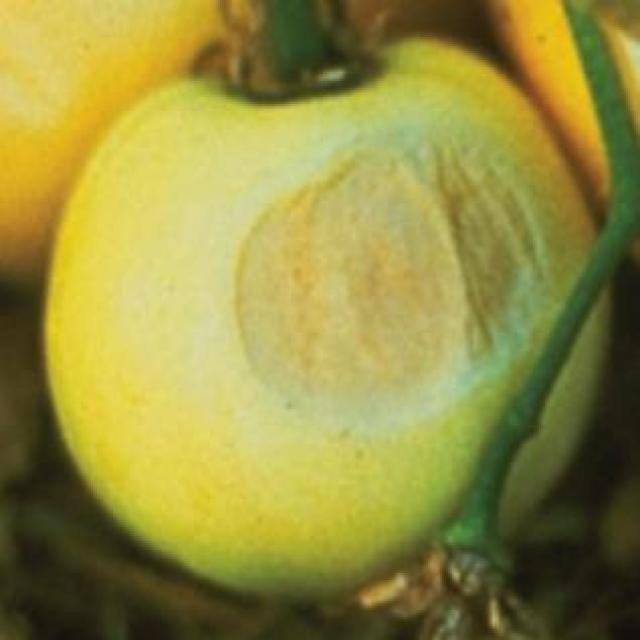Sunscald Fruit: (139, 78, 375, 304)
